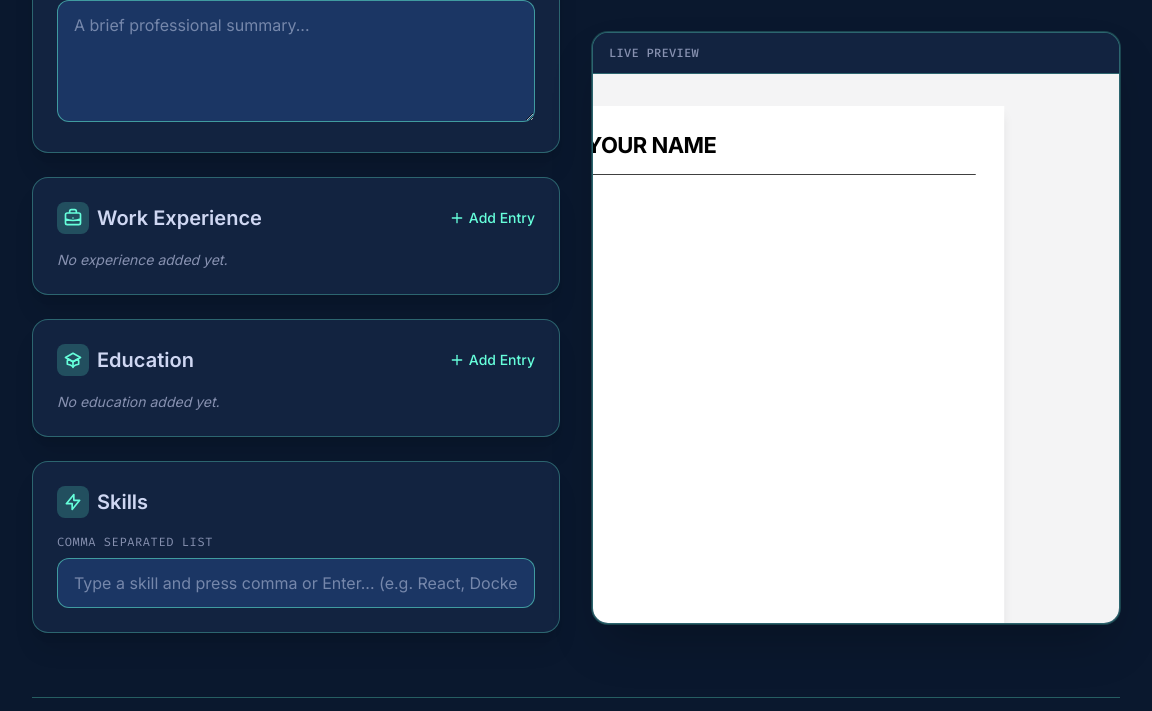
CV Editor App › can add a new education entry
(page scrolled)
Click the 2nd button "Add Entry". click: [492, 360]
box: x1=449 y1=350 x2=535 y2=370
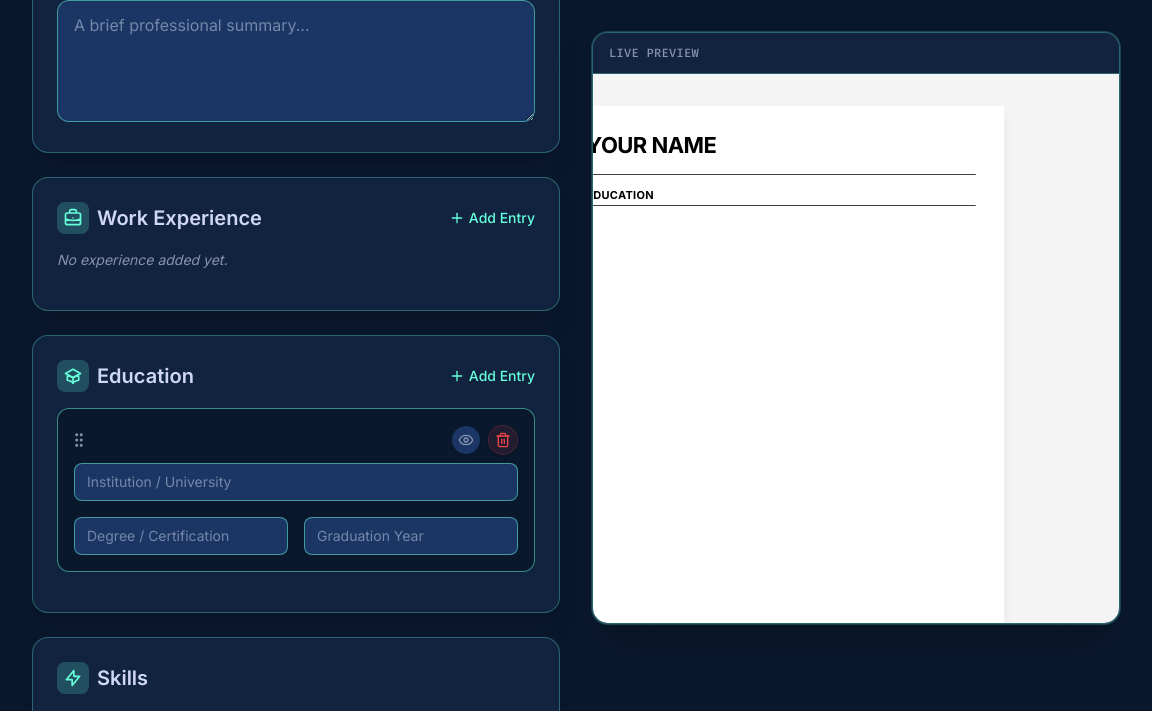
Check: the number of fields with placeholder "Institution / University" is 1, box x1=74 y1=463 x2=518 y2=501
Check: the number of fields with placeholder "Degree / Certification" is 1, box x1=74 y1=517 x2=288 y2=555
